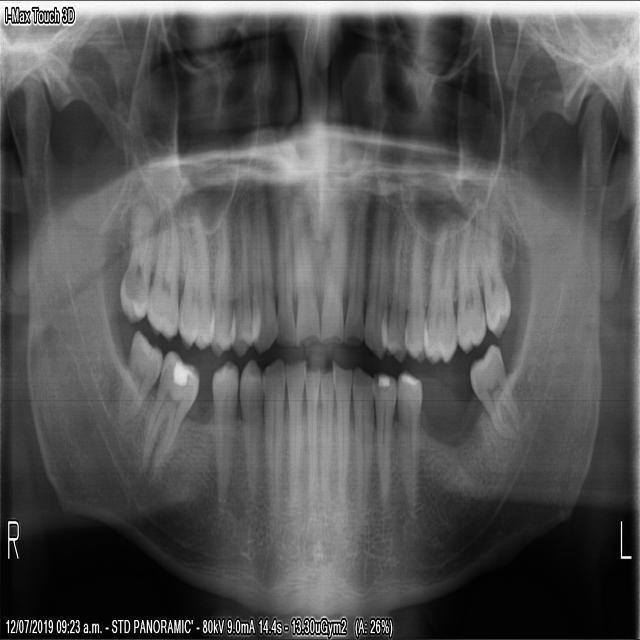LCD: (350, 358, 376, 532)
LCU: (361, 188, 389, 364)
LID: (329, 356, 351, 512), (318, 364, 336, 521)
LIU: (318, 200, 346, 345), (342, 189, 366, 349)
LMD: (466, 337, 519, 442)
LMU: (421, 212, 459, 367), (451, 219, 486, 357), (478, 215, 511, 341)
LPMD: (393, 362, 423, 527), (368, 367, 397, 509)
LPMU: (377, 198, 411, 368), (401, 218, 429, 366)
RCD: (260, 350, 286, 532)
RCU: (249, 169, 278, 358)
RID: (282, 355, 306, 516), (299, 362, 318, 532)
RIU: (289, 192, 319, 350), (272, 192, 295, 347)
RMD: (138, 346, 199, 477), (116, 325, 163, 423)
RMU: (173, 197, 215, 355), (141, 188, 181, 345), (118, 198, 154, 329)
RPMD: (208, 355, 238, 524), (236, 352, 267, 515)
RPMU: (227, 171, 262, 360), (202, 183, 237, 358)
